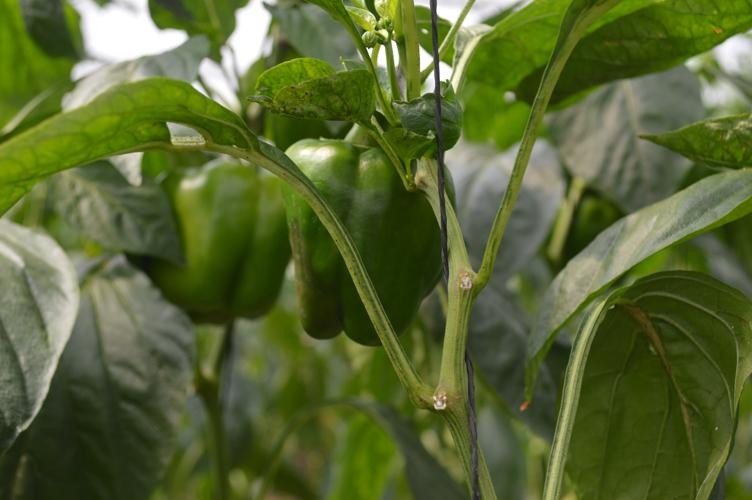BellPepper: (286, 144, 443, 348), (153, 154, 284, 331)
